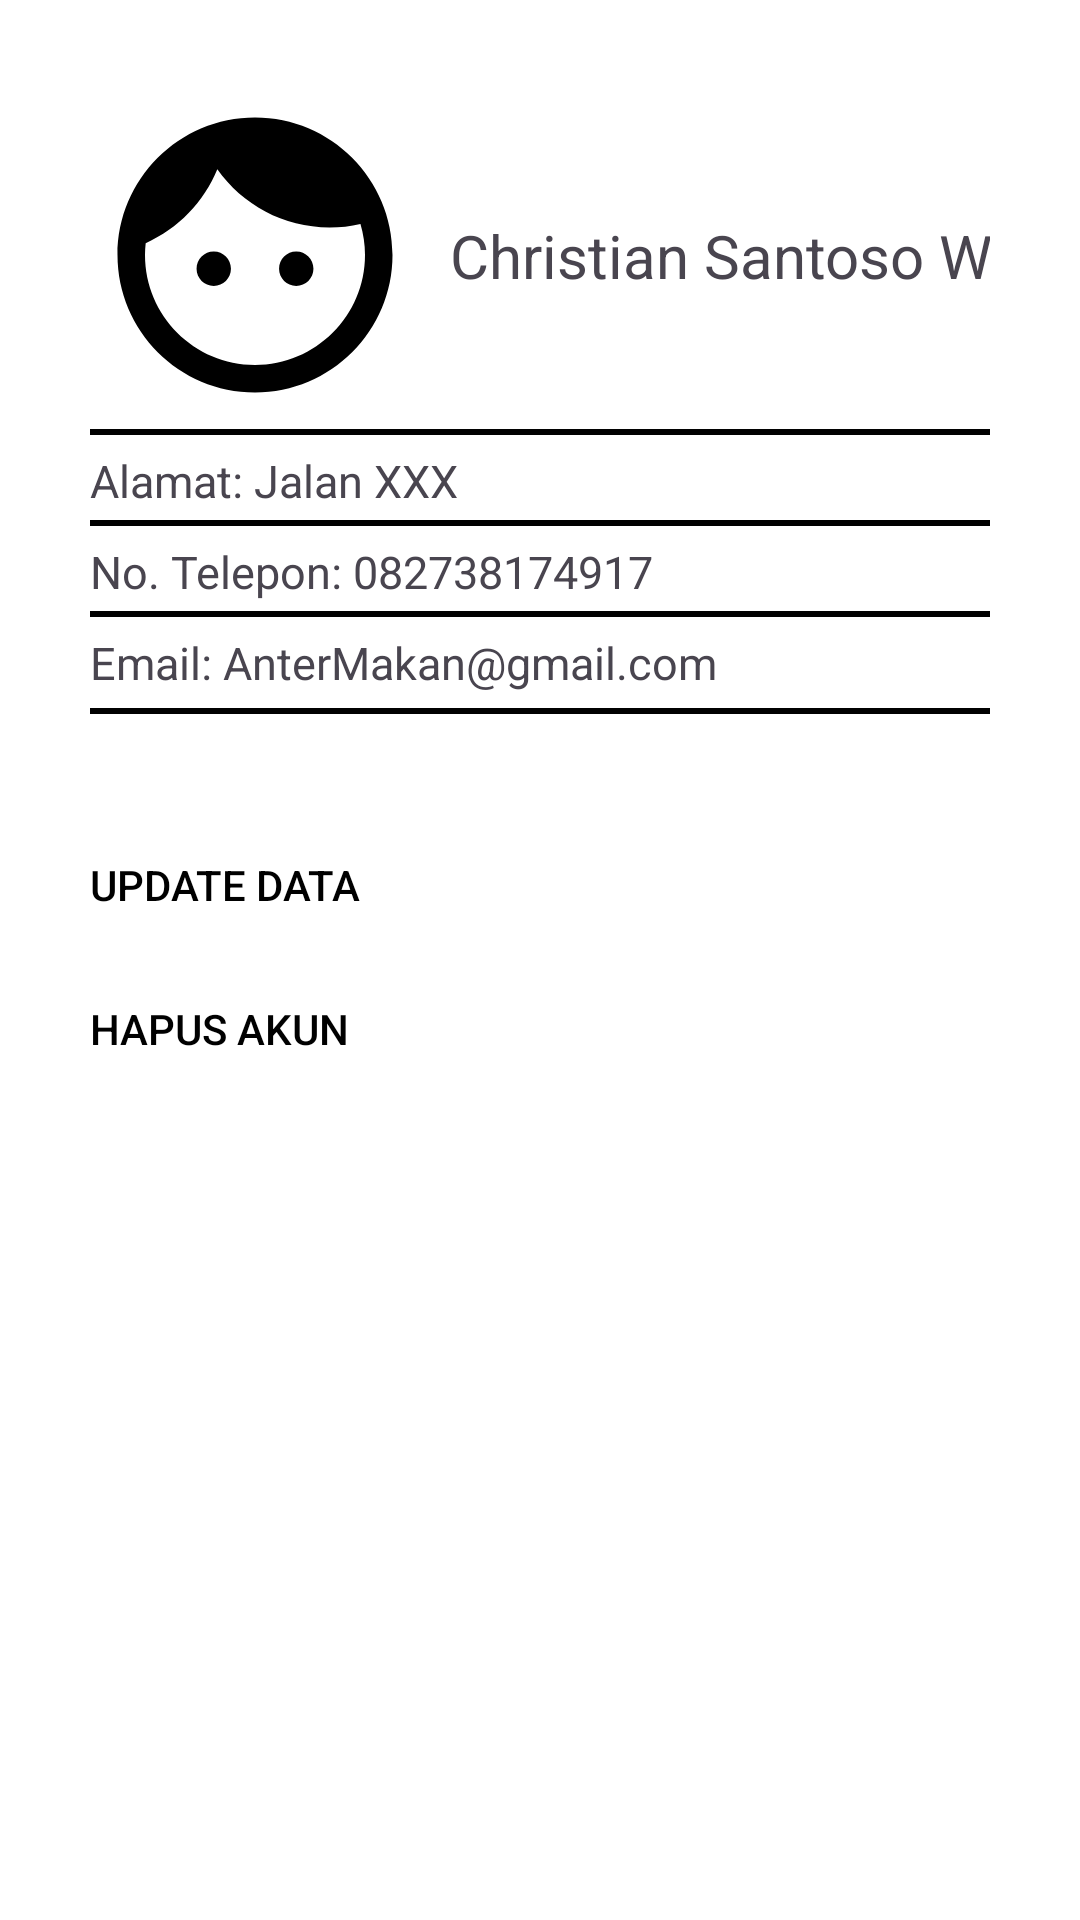

Where icons sit on this 1080x1920 app screen, as region(x1, y1, x2, y2):
profilepic: region(117, 117, 393, 393)
